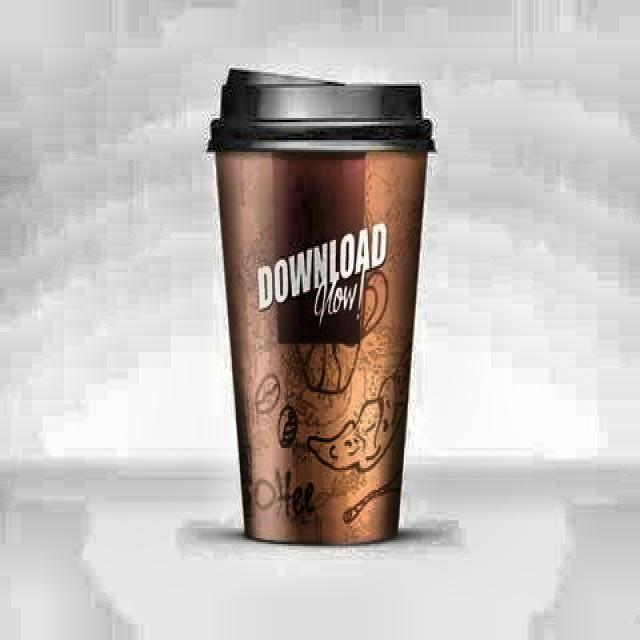Cup: (196, 77, 438, 554)
